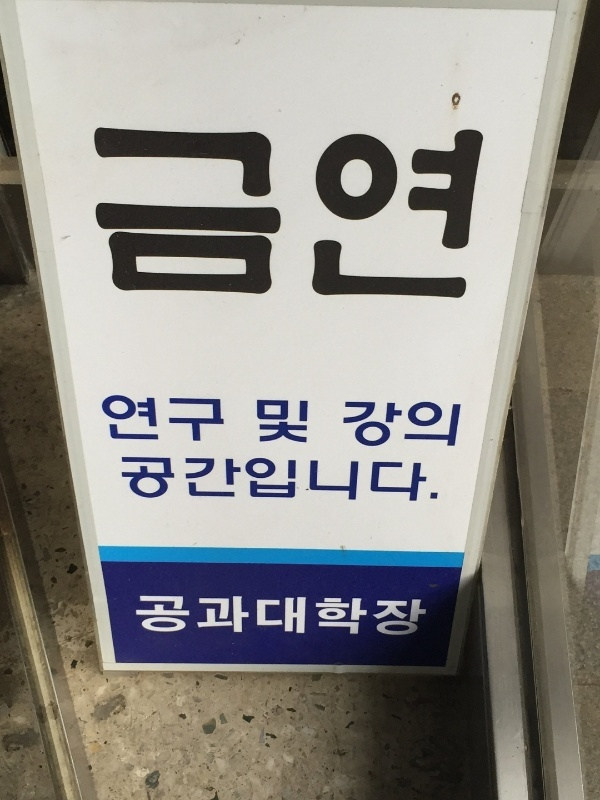text: (97, 122, 112, 308), (113, 122, 128, 308), (129, 122, 144, 308), (145, 122, 160, 308), (161, 122, 176, 308), (177, 122, 192, 308), (193, 122, 208, 308), (209, 122, 224, 308), (225, 122, 240, 308), (241, 122, 256, 308), (257, 122, 272, 308), (273, 122, 288, 308), (289, 122, 304, 308), (305, 122, 320, 308), (321, 122, 336, 308), (337, 122, 352, 308), (353, 122, 368, 308), (369, 122, 384, 308), (385, 122, 400, 308), (401, 122, 416, 308), (417, 122, 432, 308), (433, 122, 448, 308), (449, 122, 464, 308), (465, 122, 480, 308), (481, 122, 489, 308), (145, 591, 160, 644), (161, 591, 176, 644), (177, 591, 192, 644), (193, 591, 208, 644), (209, 591, 224, 644), (225, 591, 240, 644), (241, 591, 256, 644), (257, 591, 272, 644), (273, 591, 288, 644), (289, 591, 304, 644), (305, 591, 320, 644), (321, 591, 336, 644), (337, 591, 352, 644), (353, 591, 368, 644), (369, 591, 384, 644), (385, 591, 400, 644), (401, 591, 416, 644), (129, 457, 144, 508), (145, 457, 160, 508), (161, 457, 176, 508), (177, 457, 192, 508), (193, 457, 208, 508), (209, 457, 224, 508), (225, 457, 240, 508), (241, 457, 256, 508), (257, 457, 272, 508), (273, 457, 288, 508), (289, 457, 304, 508), (305, 457, 320, 508), (321, 457, 336, 508), (337, 457, 352, 508), (353, 457, 368, 508), (369, 457, 384, 508), (385, 457, 400, 508), (401, 457, 416, 508), (417, 457, 432, 508), (209, 396, 225, 443), (92, 122, 96, 308), (417, 591, 431, 644), (113, 396, 128, 443), (129, 396, 144, 443), (145, 396, 160, 443), (161, 396, 176, 443), (177, 396, 192, 443), (193, 396, 208, 443), (257, 399, 272, 446), (273, 399, 288, 446), (289, 399, 304, 446), (353, 401, 368, 448), (369, 401, 384, 448), (385, 401, 400, 448), (401, 401, 416, 448), (417, 401, 432, 448), (433, 401, 448, 448), (433, 457, 445, 508), (449, 401, 462, 448), (134, 591, 144, 644), (101, 396, 112, 443), (343, 401, 352, 448), (122, 457, 128, 508), (305, 399, 309, 446)
